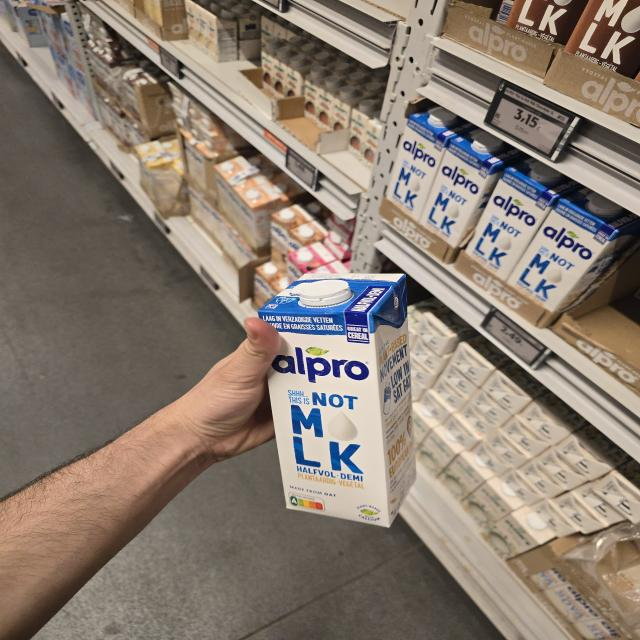Milk: (257, 273, 417, 527), (506, 187, 640, 312), (464, 157, 585, 282), (419, 128, 530, 247), (385, 105, 477, 222)
